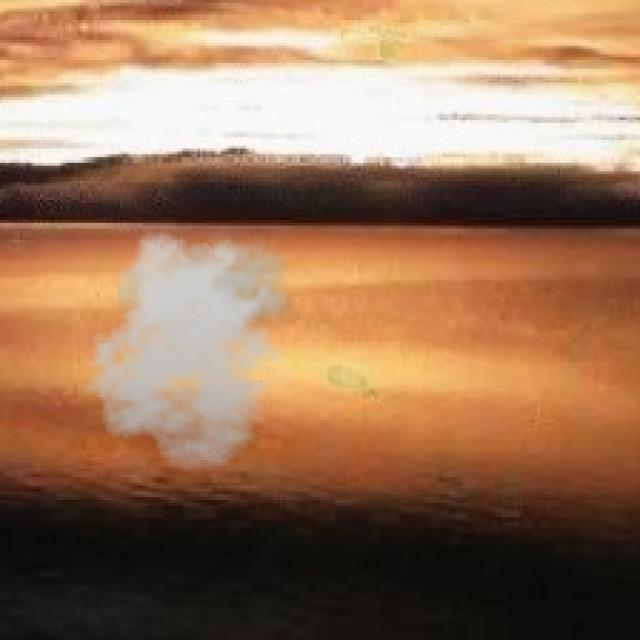Smoke: (83, 223, 300, 471)
